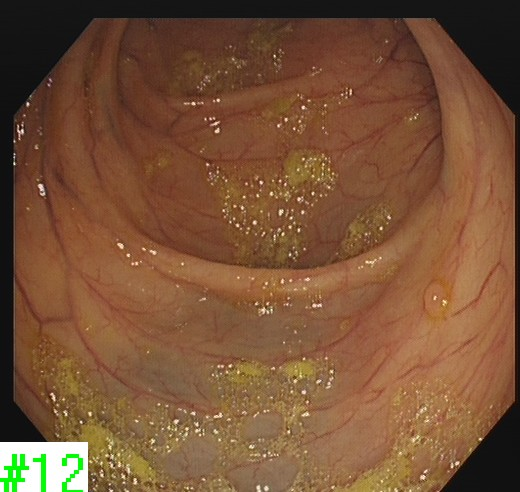adenoma: (420, 278, 449, 320)
